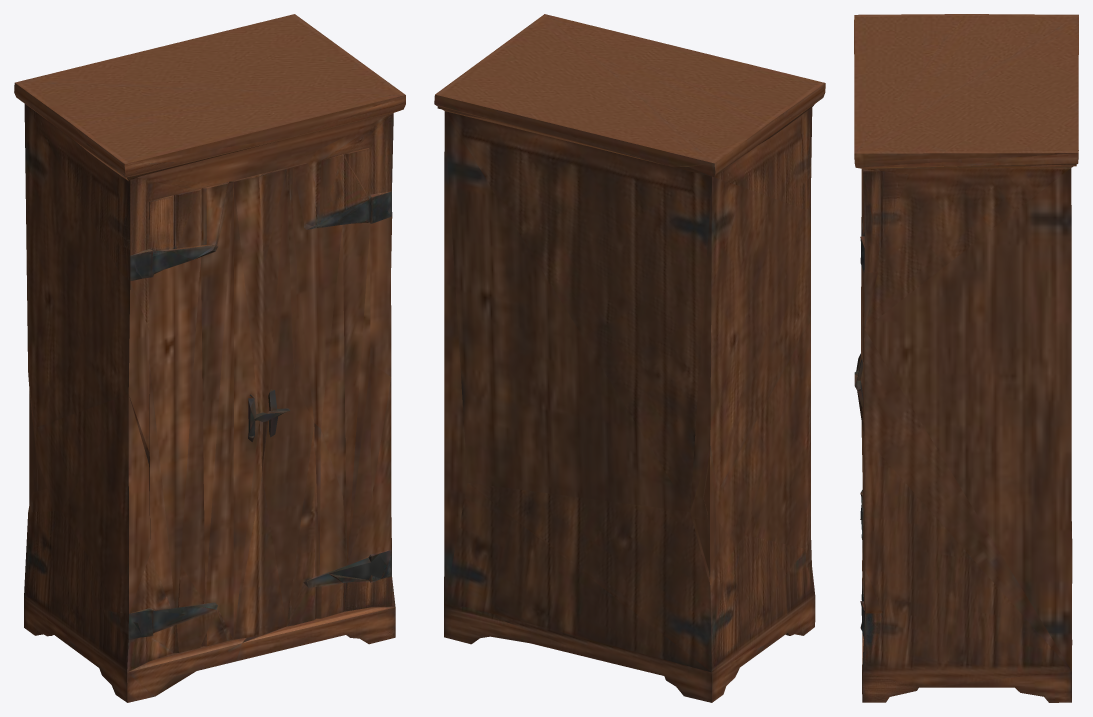
File: cupboard.glb
3 views of the same model, side by side, from view 1: azimuth 30°, elevation 25°; view 2: azimuth 150°, elevation 25°; view 3: azimuth 270°, elevation 25° (orthographic).
Parts seen in each view (by area): view 1: cupboard; view 2: cupboard; view 3: cupboard.
Part boxes in pixels (<box>): cupboard: <box>14,14,405,702</box>; cupboard: <box>434,14,825,702</box>; cupboard: <box>854,14,1078,702</box>.
Size of the model in its own units: 1 by 1.85 by 0.6815.
1 material, 1 textured.
